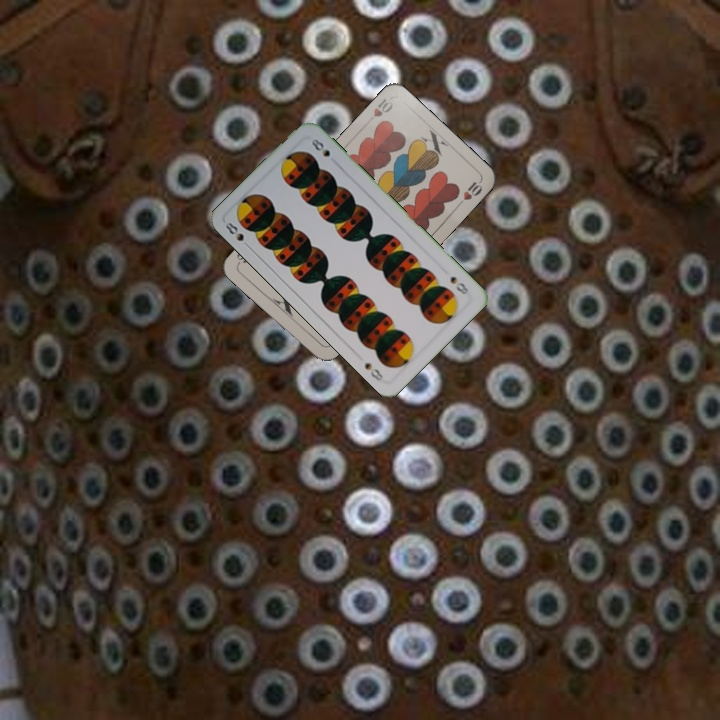H10: (362, 94, 396, 127)
S8: (219, 218, 254, 251), (446, 272, 471, 297)
